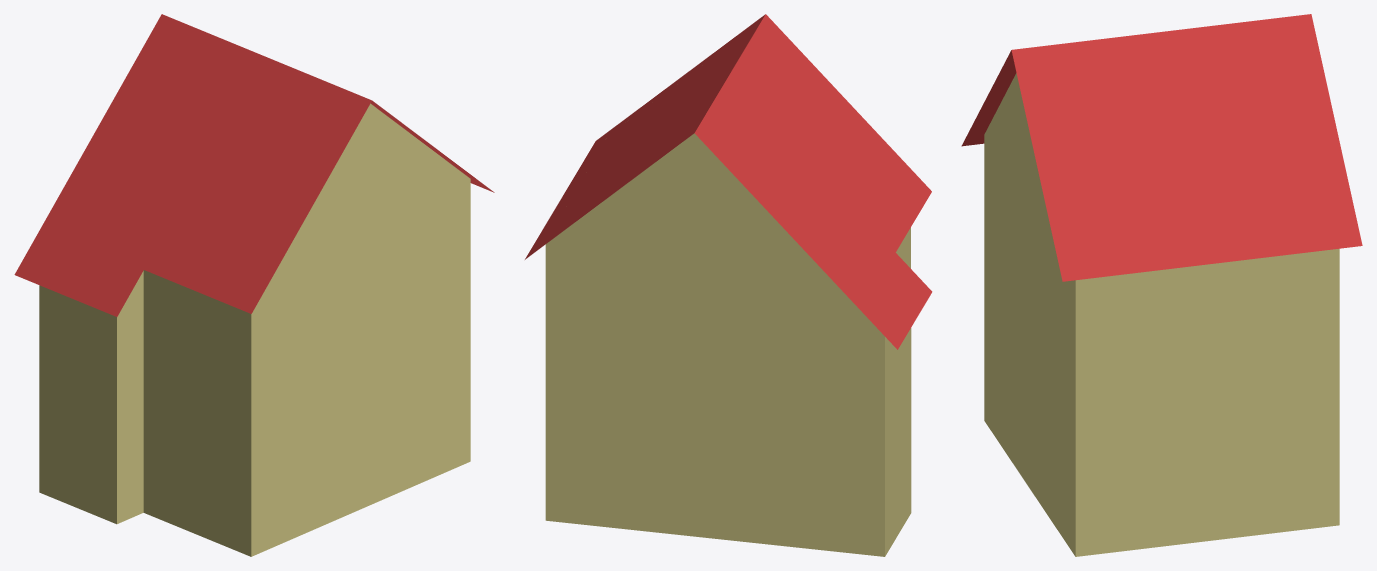
3 renders of one model, left to right at view 1: azimuth 30°, elevation 25°; view 2: azimuth 150°, elevation 25°; view 3: azimuth 270°, elevation 25°, orthographic. The views are drawn at different scales.
Bounding box in the file's own units: 12.87 × 10.72 × 12.98.
